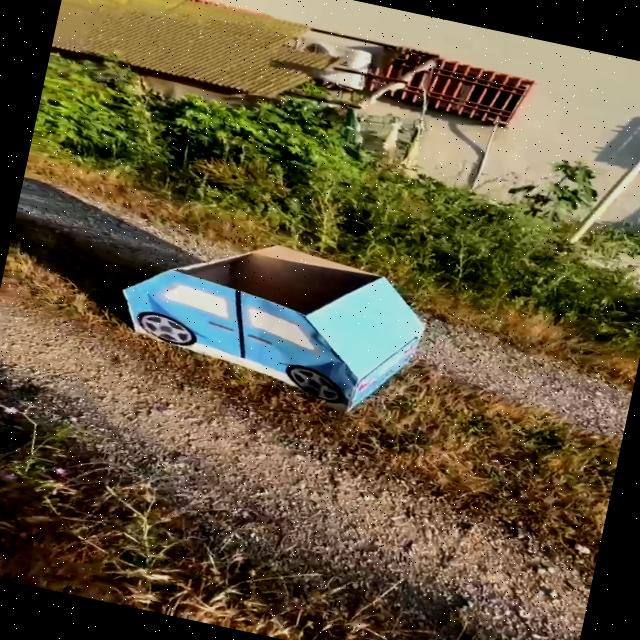blue_car: (53, 182, 473, 456)
